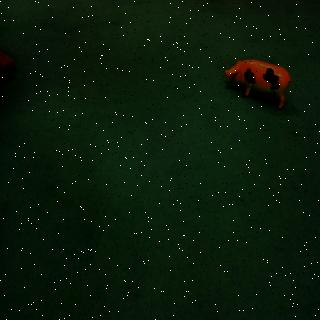pig: (224, 51, 294, 116)
